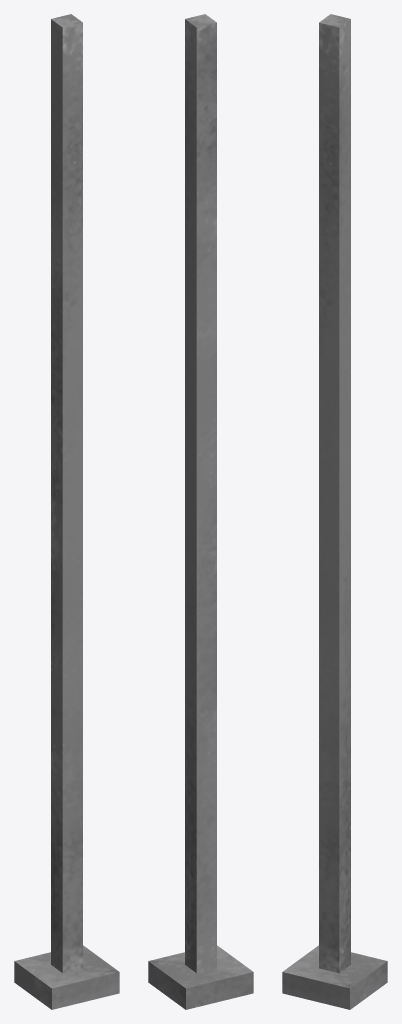
File: barricade_pillar.fbx
3 renders of one model, left to right at view 1: azimuth 30°, elevation 25°; view 2: azimuth 210°, elevation 25°; view 3: azimuth 330°, elevation 25°, orthographic.
Parts seen in each view (by area): view 1: pCube5; view 2: pCube5; view 3: pCube5.
Boxes of the visible parts, <box> form: pCube5: <box>14,14,119,1009</box>; pCube5: <box>148,14,253,1009</box>; pCube5: <box>282,14,387,1009</box>.
Size of the model in its own units: 14.65 by 200 by 14.02.
